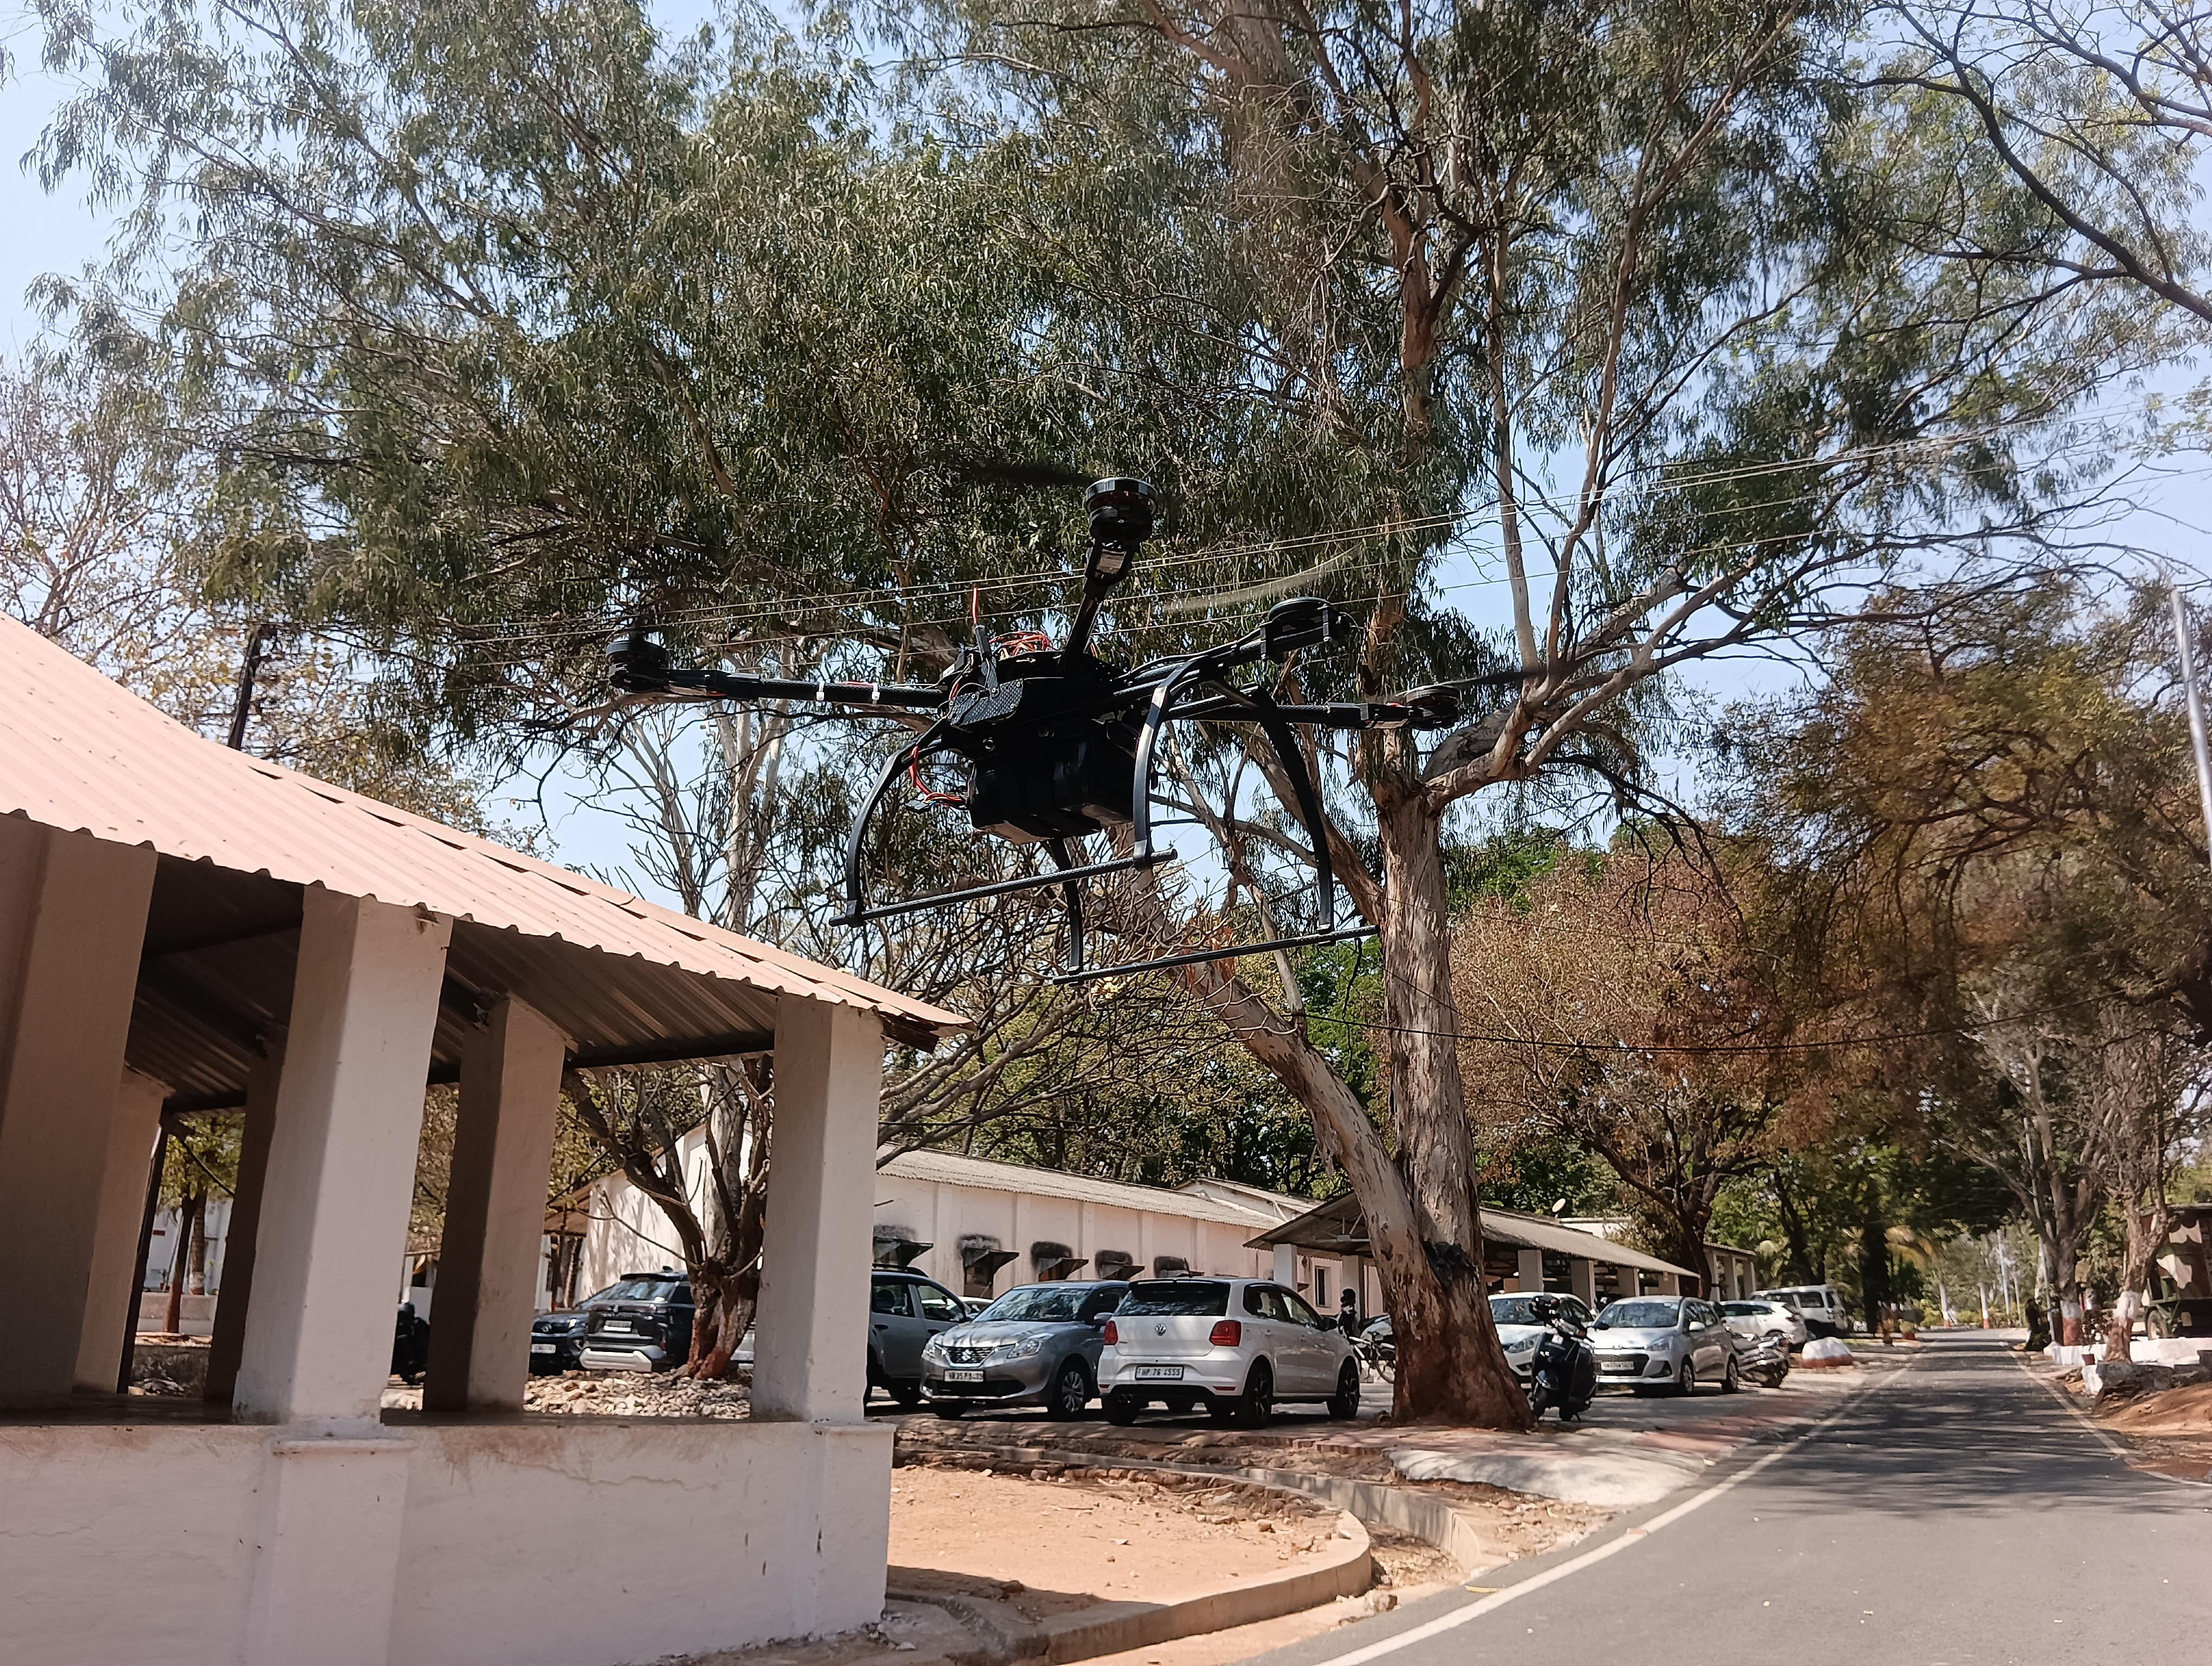drone: (549, 436, 1589, 964)
